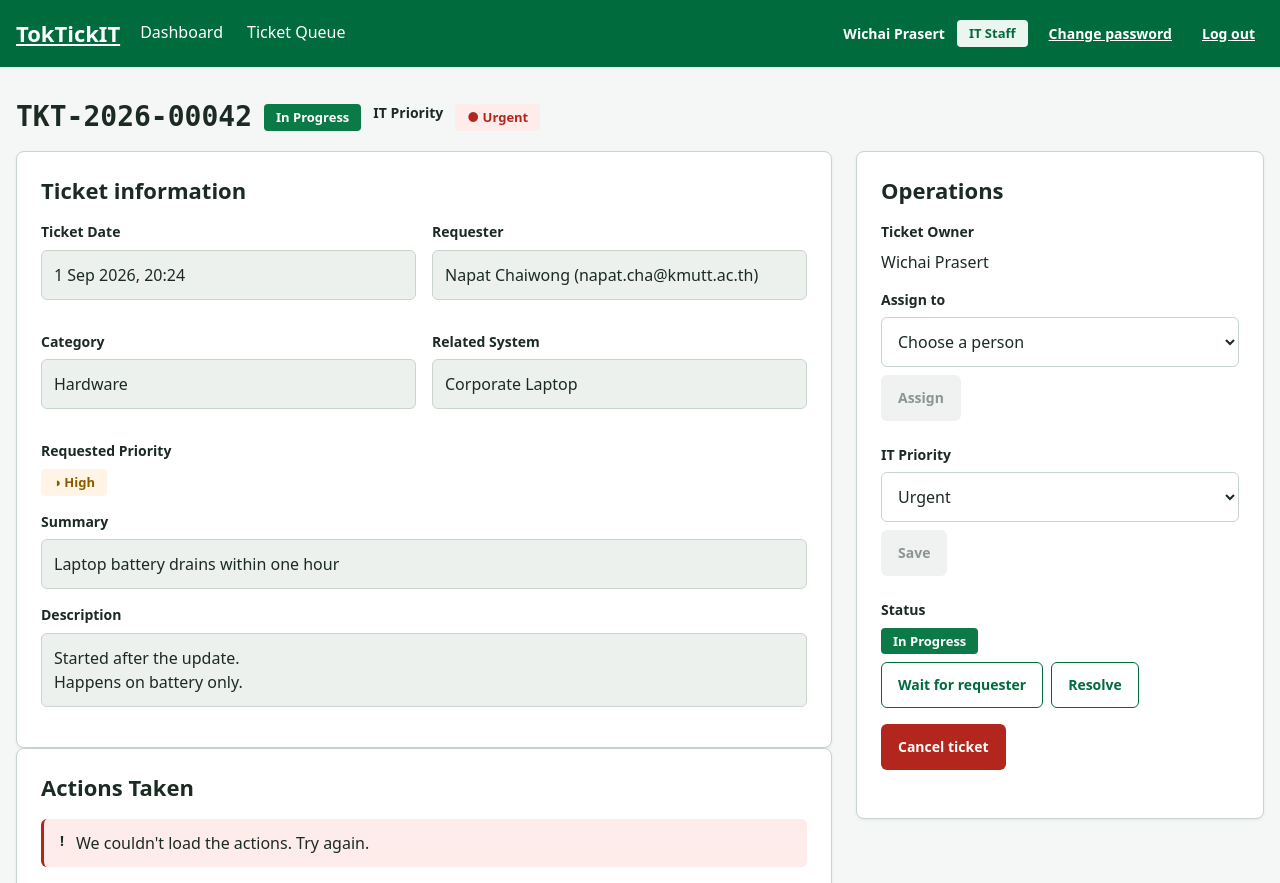
Test: UI-30 (AC-41) - confirmation dialogs › Resolve opens a dialog, sends nothing until confirmed, then sends RESOLVED
Expected: the element with test id "operations-card" is shown, top-left (856, 151), bottom-right (1264, 819)
Click the button with test id "btn-transition-RESOLVED". click: [1095, 685]
box: top-left (1051, 662), bottom-right (1139, 708)
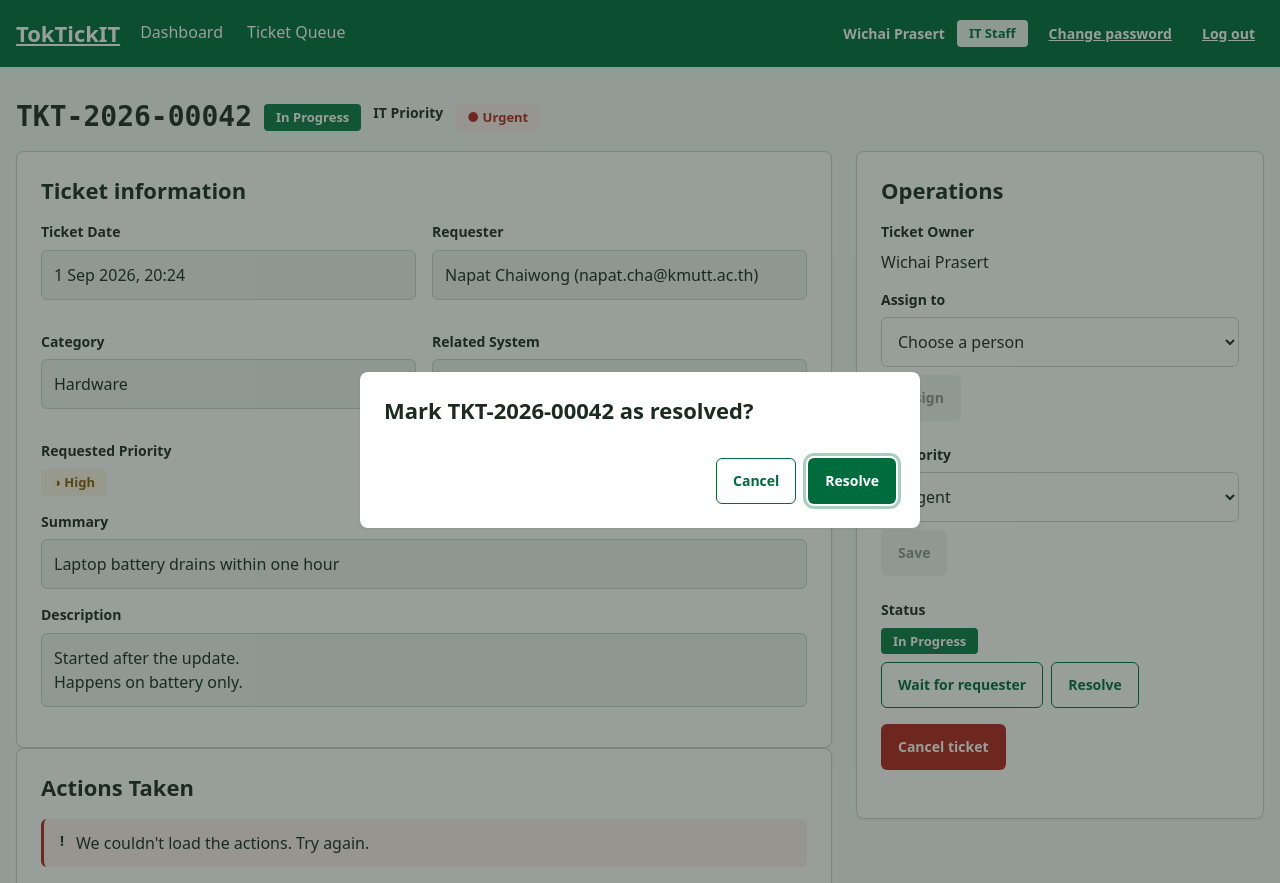
Click the button with test id "btn-confirm". click: [852, 481]
box: top-left (808, 458), bottom-right (896, 504)
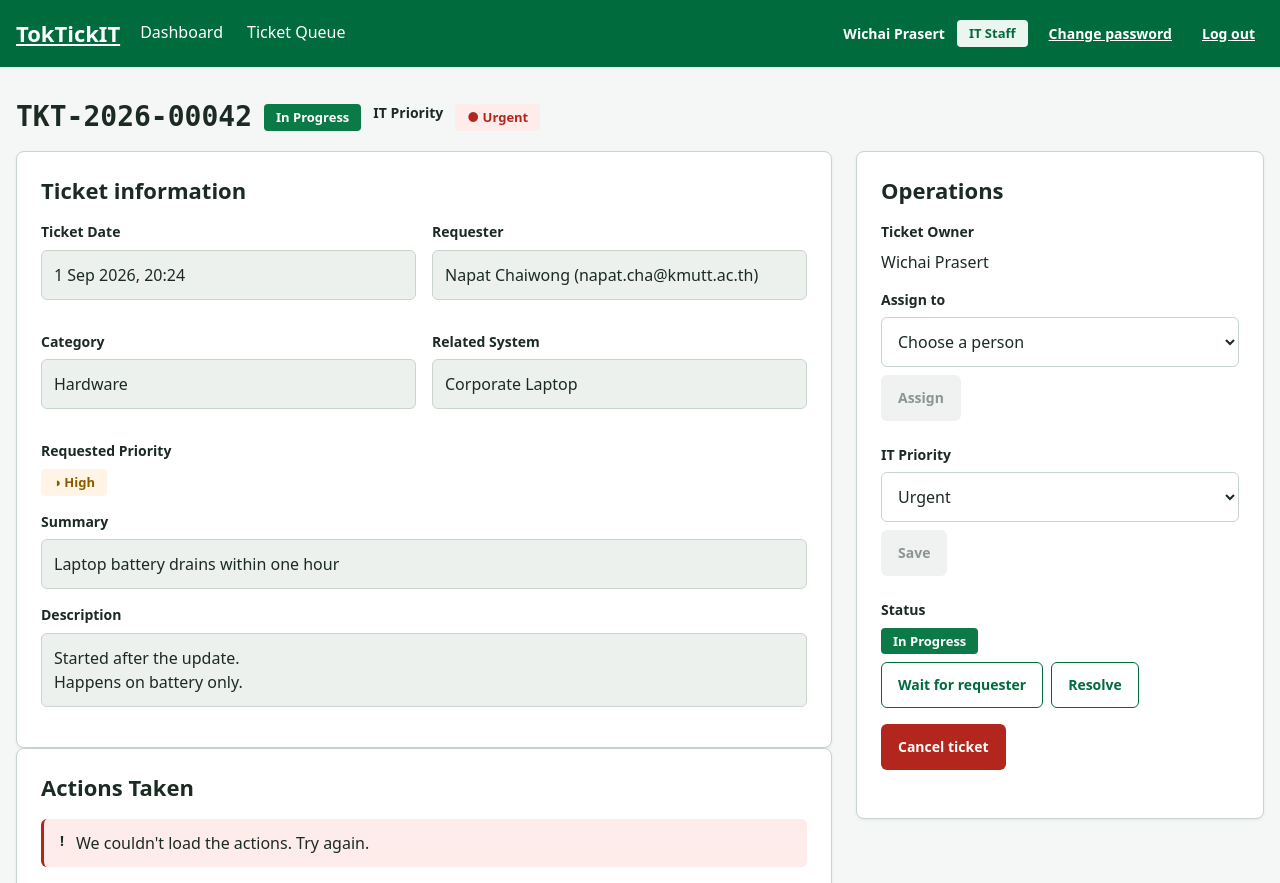
Expected: the dialog with test id "confirm-dialog" is gone
